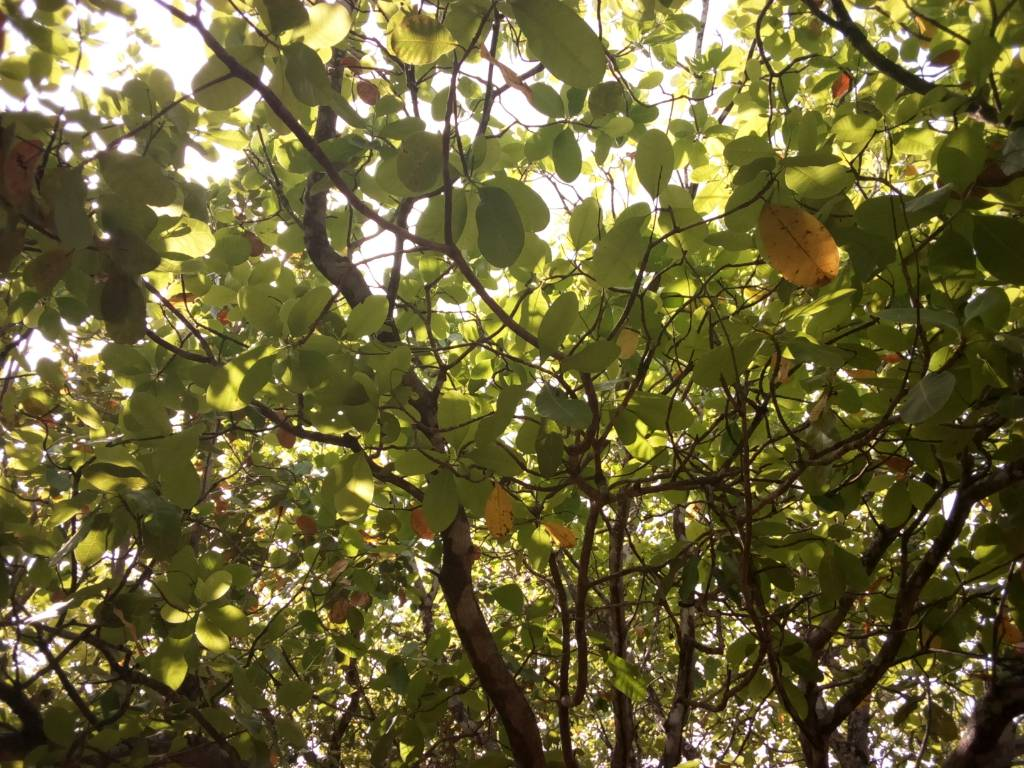Anthracnose: (761, 204, 839, 289), (483, 489, 517, 540)
